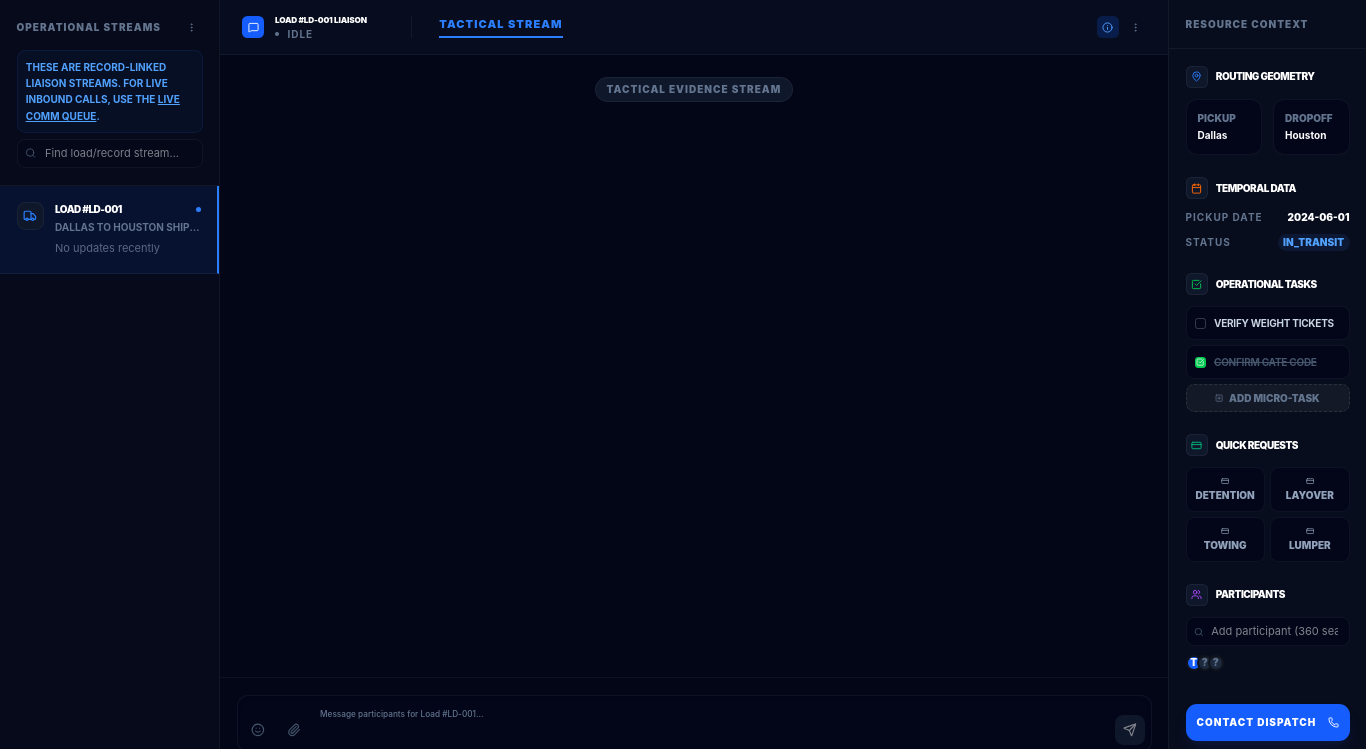
Test: OperationalMessaging coverage — lines 770-828 › cancels task creation and hides the form
Click the button "Add Micro-Task".
click(1268, 398)  # box x1=1186 y1=384 x2=1350 y2=412
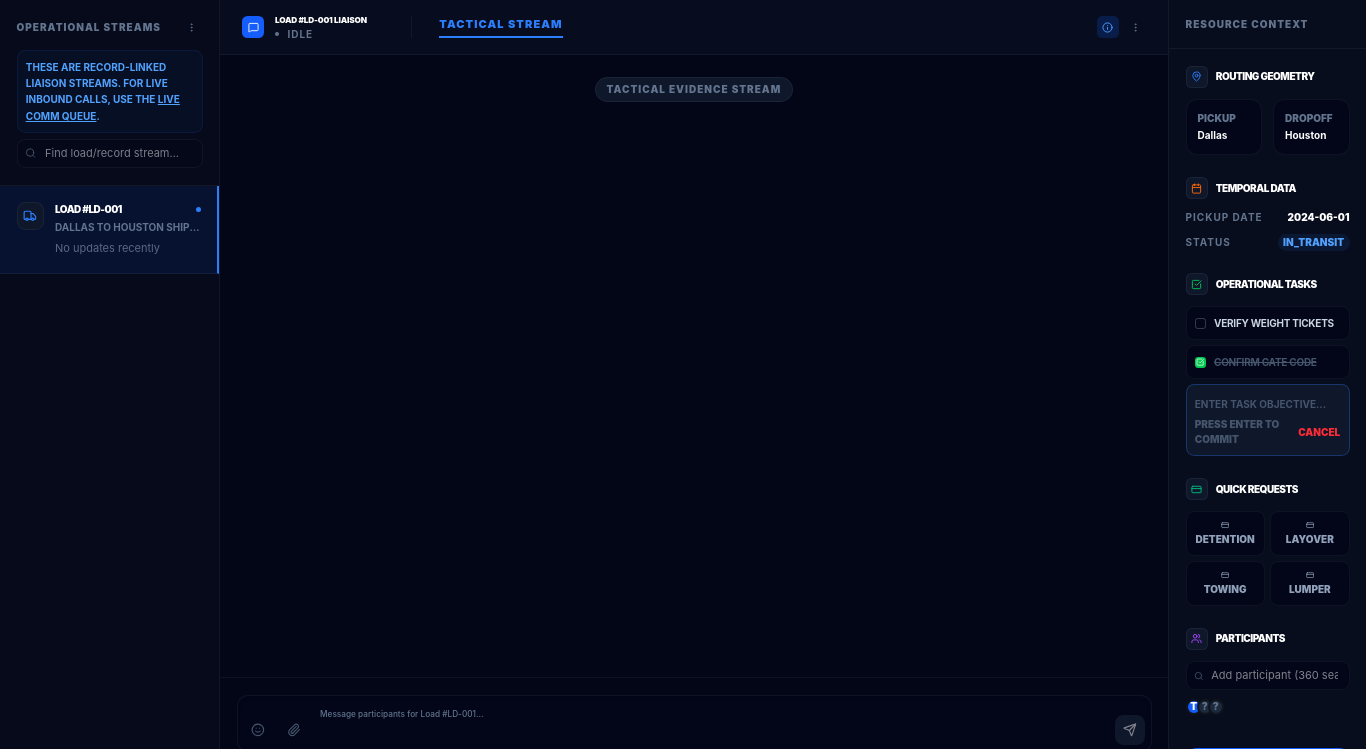
Expected: the field with placeholder "Enter task objective..." is shown, x1=1195 y1=396 x2=1340 y2=412
Click the button "Cancel".
click(1319, 432)  # box x1=1298 y1=424 x2=1340 y2=440
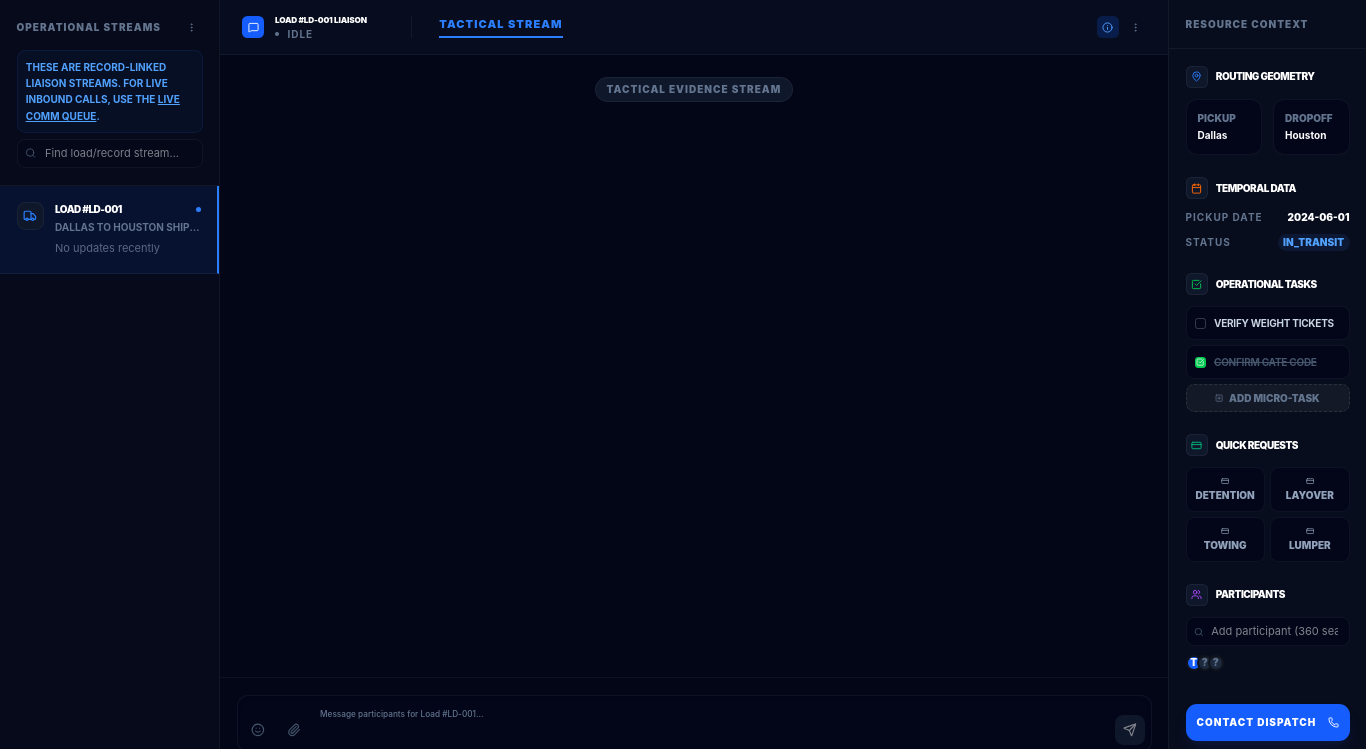
Expected: the field with placeholder "Enter task objective..." is not shown
Expected: the button "Add Micro-Task" is shown, x1=1186 y1=384 x2=1350 y2=412
